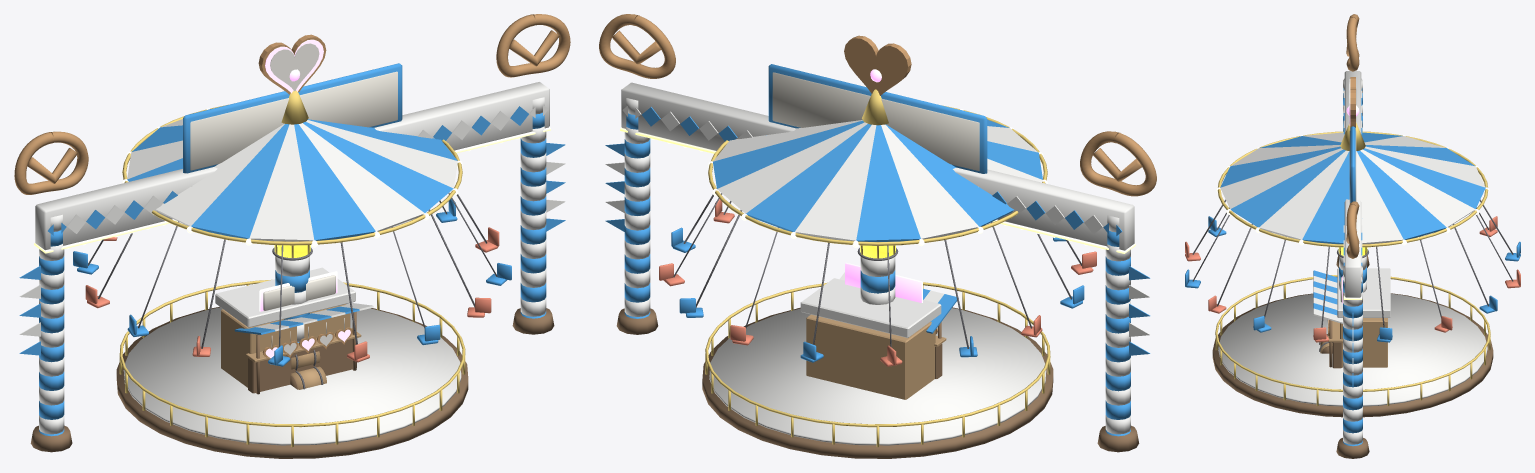
File: wiesn.glb
3 views of the same model, side by side, from view 1: azimuth 30°, elevation 25°; view 2: azimuth 150°, elevation 25°; view 3: azimuth 270°, elevation 25° (orthographic). The views are drawn at different scales.
Visible parts, largest first — view 1: WS_Gate, WS_CarouselBase, WS_CarouselTop, WS_Stall, WS_Barrels; view 2: WS_Gate, WS_CarouselTop, WS_CarouselBase, WS_Stall; view 3: WS_CarouselTop, WS_CarouselBase, WS_Gate, WS_Stall.
Boxes of the visible parts, x1,y1,x2,y2 form: WS_Gate: [14, 14, 570, 452]; WS_CarouselBase: [116, 256, 468, 458]; WS_CarouselTop: [73, 69, 511, 366]; WS_Stall: [215, 267, 373, 394]; WS_Barrels: [290, 350, 326, 389]; WS_Gate: [599, 14, 1156, 452]; WS_CarouselTop: [659, 69, 1096, 366]; WS_CarouselBase: [702, 257, 1053, 458]; WS_Stall: [800, 262, 958, 399]; WS_CarouselTop: [1185, 105, 1520, 342]; WS_CarouselBase: [1212, 256, 1493, 417]; WS_Gate: [1336, 14, 1369, 458]; WS_Stall: [1313, 268, 1390, 368].
Size of the model in its own units: 27.69 by 16.45 by 18.21.
